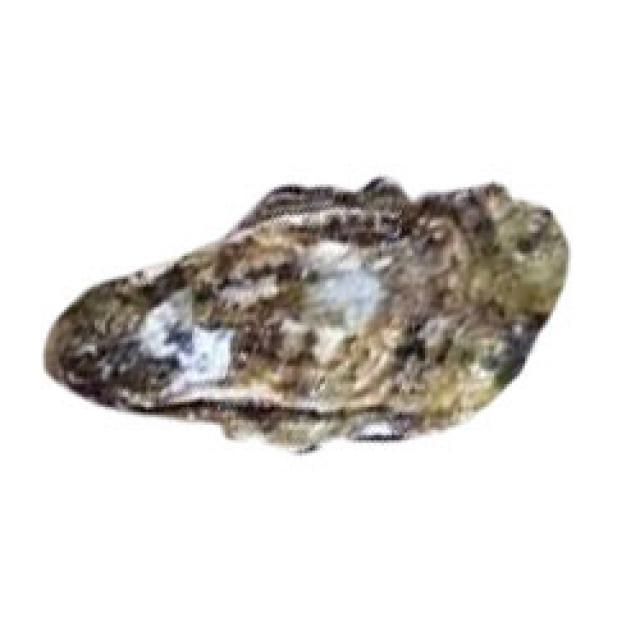Oyster- Indeterminate: (49, 177, 572, 456)
